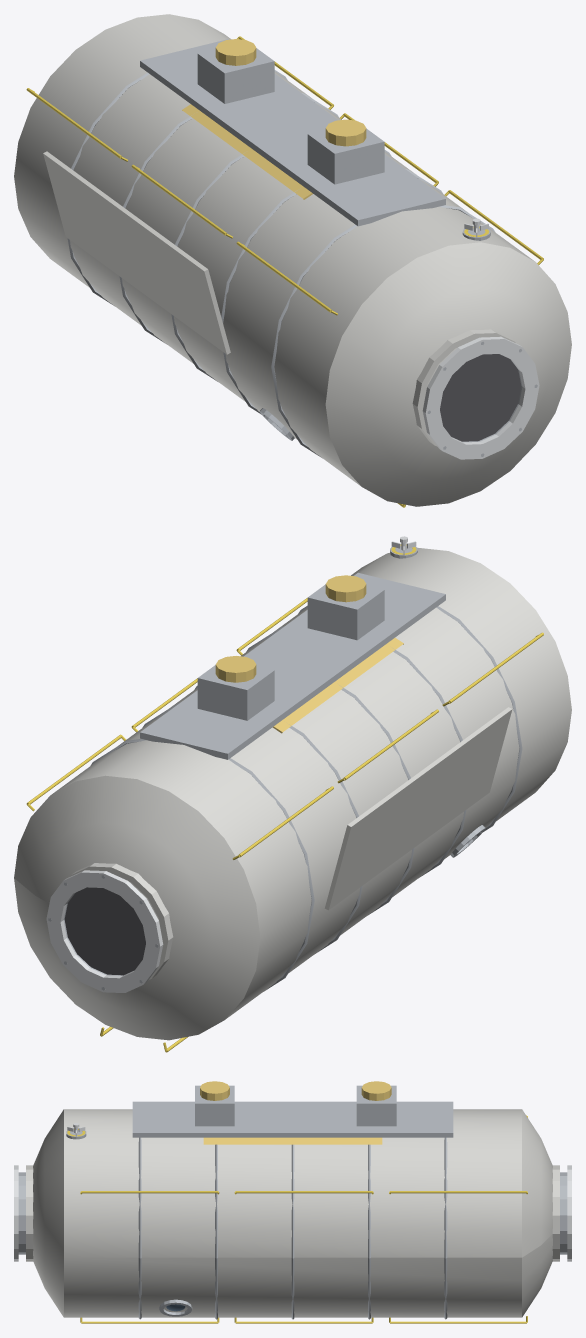
The model's file is orbital-station-and-docking-bays-laboratory-module-b2b36023__24531.glb.
The picture shows the model from 3 angles, top to bottom: view 1: azimuth 30°, elevation 25°; view 2: azimuth 150°, elevation 25°; view 3: azimuth 270°, elevation 25°; orthographic projection. The views are drawn at different scales.
Visible parts, largest first — view 1: laboratory-module; view 2: laboratory-module; view 3: laboratory-module.
Boxes of the visible parts, left/top/right/bottom form: laboratory-module: left=14, top=14, right=571, bottom=507; laboratory-module: left=14, top=536, right=571, bottom=1052; laboratory-module: left=14, top=1081, right=571, bottom=1323.
Bounding box in the file's own units: 4.77 × 4.97 × 11.2.
